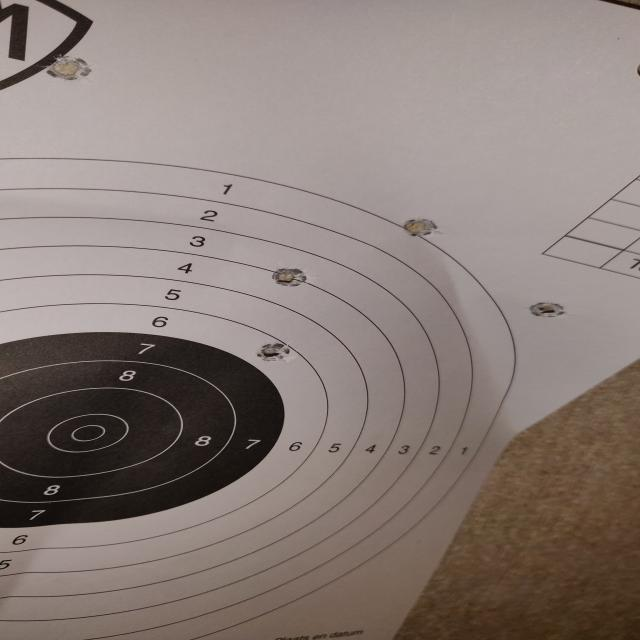0: (40, 56, 94, 82), (528, 302, 568, 318)
1: (401, 215, 443, 237)
4: (270, 268, 311, 286)
6: (255, 342, 297, 362)
Target: (0, 156, 521, 640)
black_contour: (0, 329, 279, 528)
